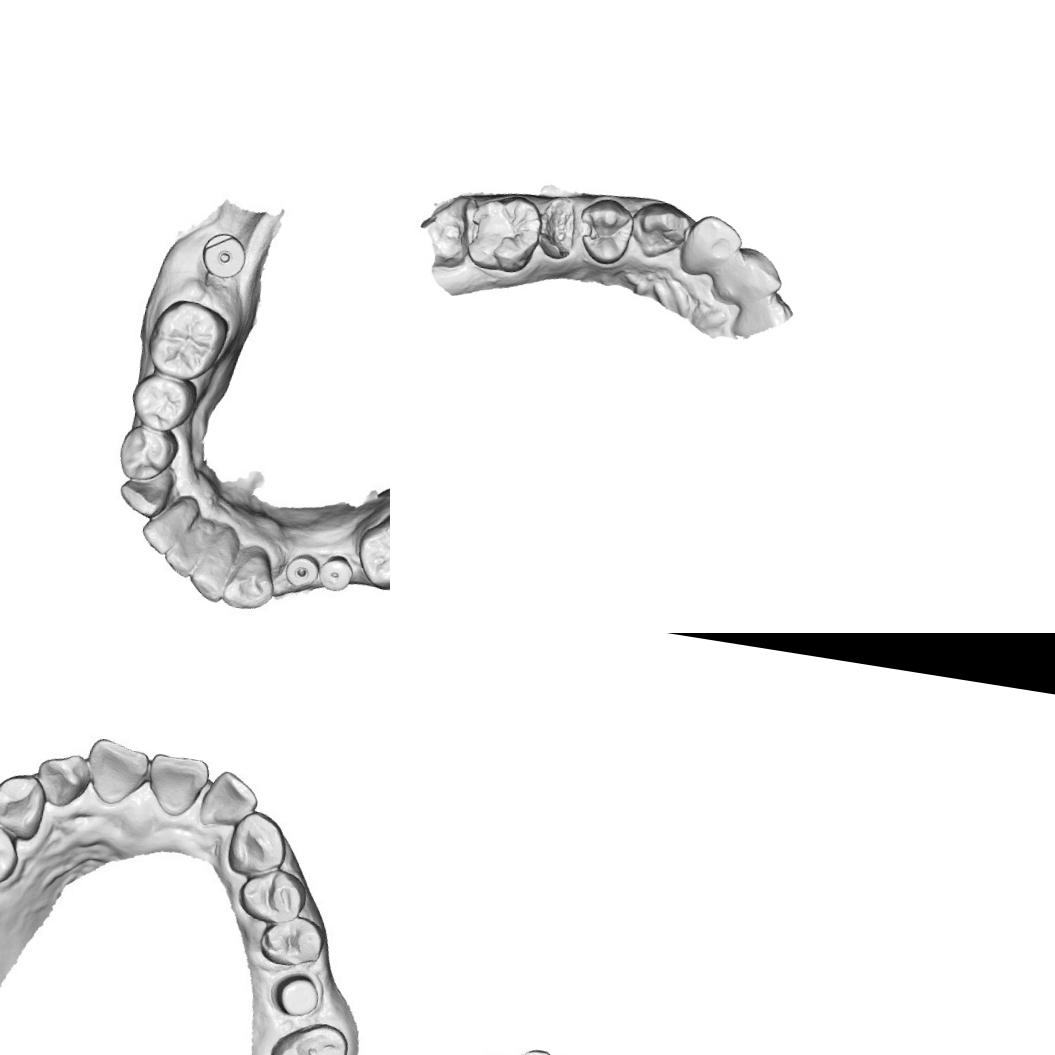abutment: (270, 971, 326, 1025)
canine: (674, 208, 748, 286), (222, 804, 291, 884), (0, 771, 51, 845), (221, 550, 276, 617), (114, 469, 177, 522)
crown: (515, 1044, 561, 1055)
implant: (198, 228, 248, 284), (283, 550, 325, 593), (317, 553, 357, 596)
incisor: (709, 240, 786, 313), (84, 734, 152, 808), (27, 744, 93, 814), (194, 768, 259, 838), (145, 751, 206, 820), (729, 284, 797, 345), (187, 532, 241, 606), (134, 496, 194, 562), (160, 510, 212, 583)
molar: (141, 292, 233, 386), (456, 186, 548, 278), (261, 1013, 353, 1055), (351, 506, 390, 598)
premolar: (254, 907, 332, 977), (571, 192, 640, 270), (112, 420, 182, 487), (128, 370, 198, 436), (630, 196, 694, 264), (238, 870, 308, 924), (0, 815, 27, 891)
